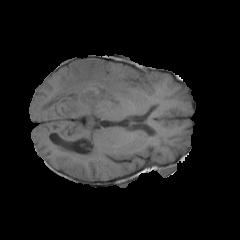glioma: (40, 60, 136, 114)
